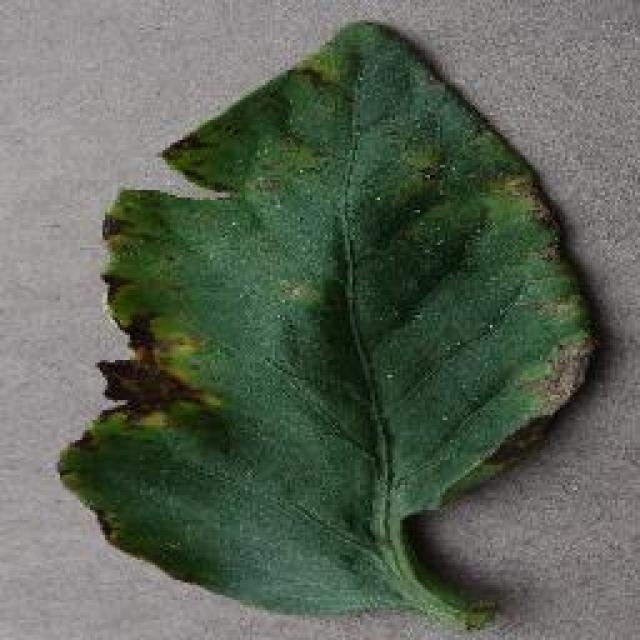Tomato___Bacterial_spot: (43, 17, 601, 638)
